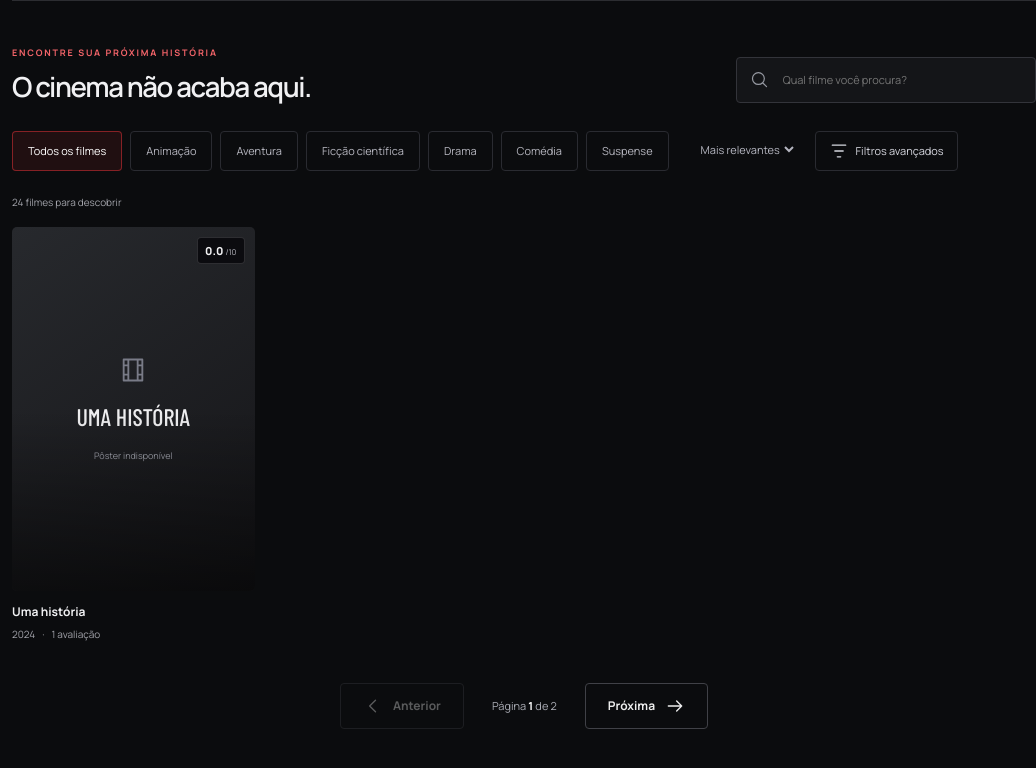
Scenario: Catálogo conectado › descarta a resposta atrasada de uma busca antiga
Expected: the heading "Uma história" is shown, [12,602,86,620]
Type "antigo" into the search field at (901, 80), box [781,58,1021,102]
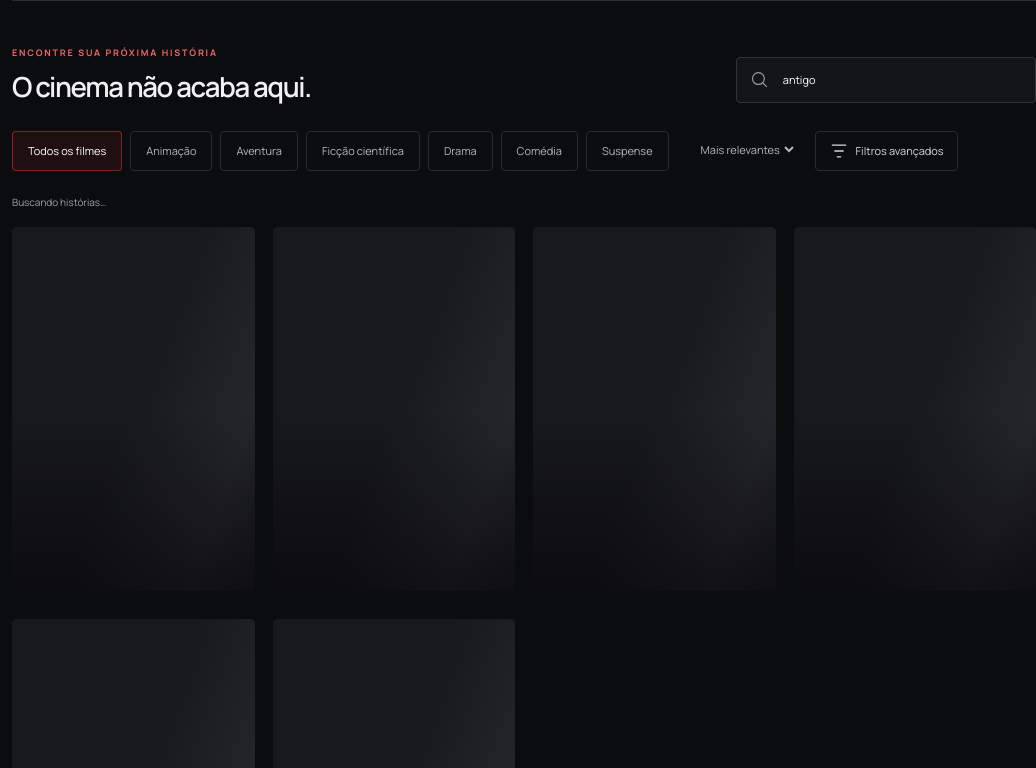
Replace the text in the search field with "novo" at (901, 80), box [781,58,1021,102]
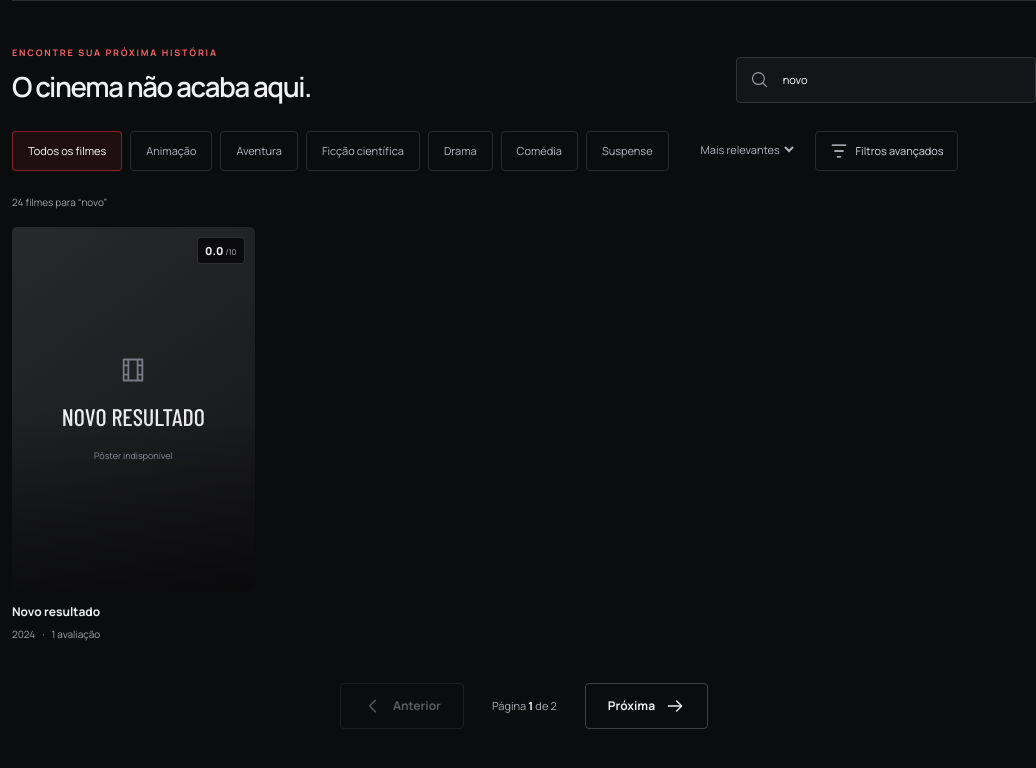
Now the heading "Novo resultado" is shown, box [12,602,100,620]
